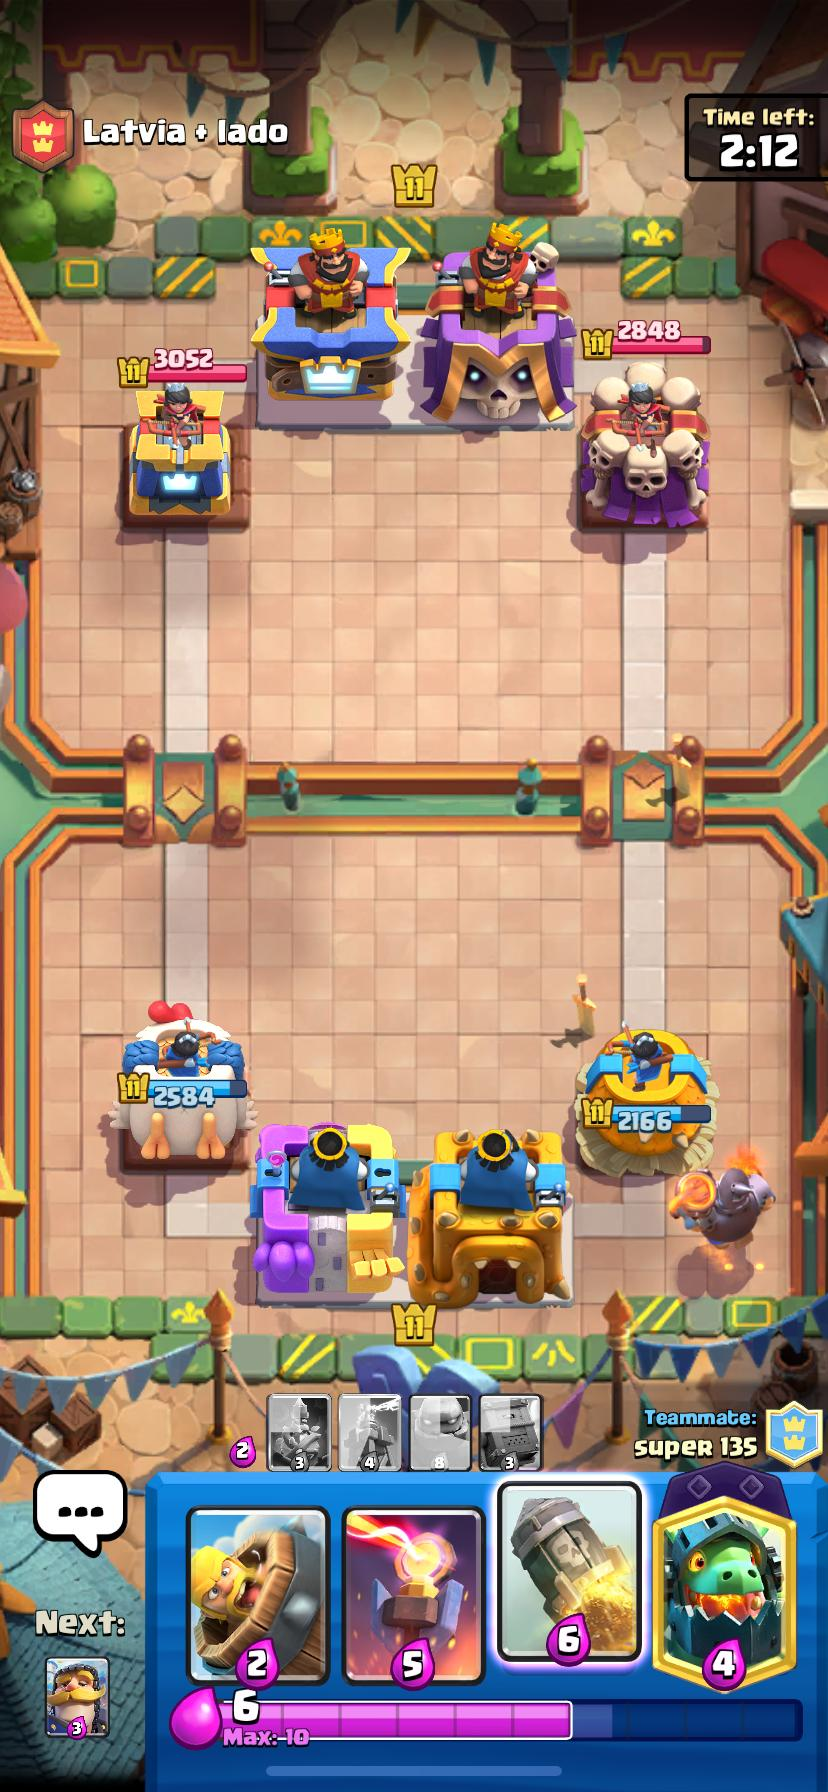EKingTower: (421, 227, 574, 424), (252, 230, 409, 399)
EnemyPrincessTower: (580, 363, 708, 528), (130, 384, 230, 517)
OFurnace: (670, 1166, 774, 1247)
OwnKingTower: (408, 1129, 571, 1305), (252, 1123, 403, 1303)
OwnPrincessTower: (109, 1001, 255, 1161), (576, 1024, 716, 1176)
